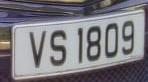0: (103, 20, 121, 63)
1: (73, 23, 86, 69)
8: (85, 21, 104, 66)
9: (119, 18, 137, 59)
S: (48, 26, 70, 71)
V: (27, 28, 49, 73)
